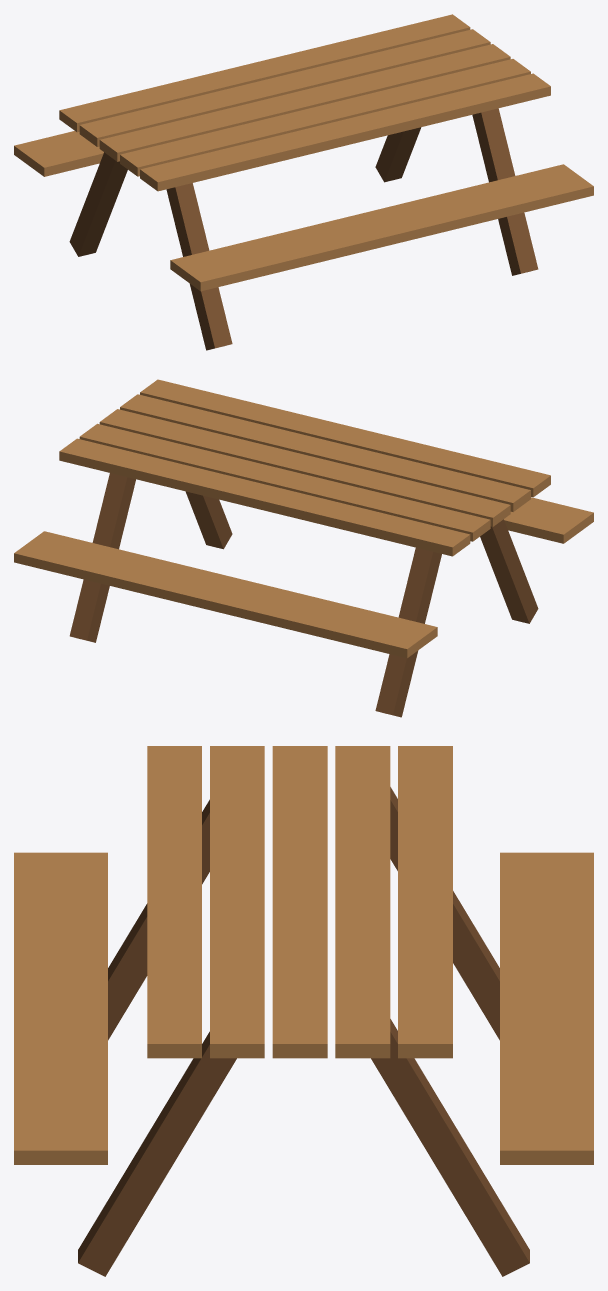
Rendered from Prop_PicnicTable.fbx.
The picture shows the model from 3 angles, top to bottom: view 1: azimuth 30°, elevation 25°; view 2: azimuth 150°, elevation 25°; view 3: azimuth 270°, elevation 25°; orthographic projection. The views are drawn at different scales.
Parts seen in each view (by area): view 1: Prop_PicnicTable.001; view 2: Prop_PicnicTable.001; view 3: Prop_PicnicTable.001.
Part boxes in pixels (bbox=[...]): Prop_PicnicTable.001: bbox=[14, 14, 593, 350]; Prop_PicnicTable.001: bbox=[14, 379, 593, 717]; Prop_PicnicTable.001: bbox=[14, 746, 593, 1276].
Bounding box in the file's own units: 1.8 × 0.7302 × 1.48.
